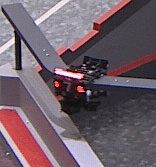armor: (54, 77, 84, 96)
watcher: (50, 50, 106, 117)
